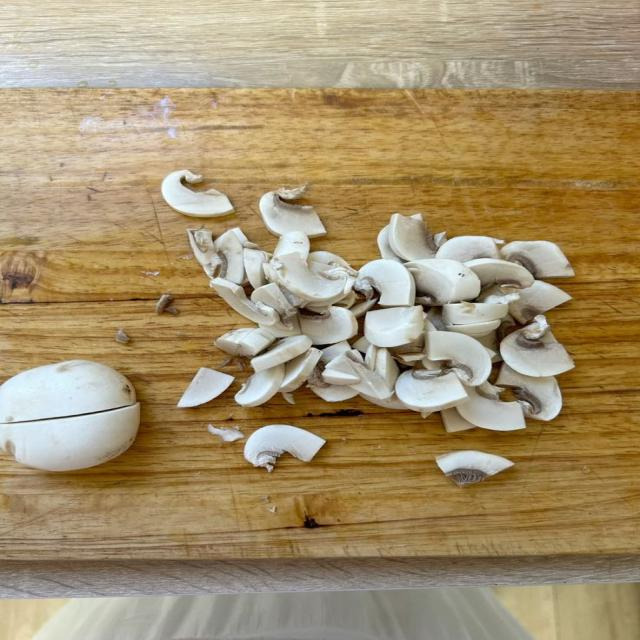champignon mushrooms: (0, 360, 139, 471), (500, 316, 574, 377), (496, 363, 562, 420), (272, 254, 346, 304), (245, 425, 325, 471), (427, 332, 491, 386), (260, 186, 326, 238), (161, 170, 233, 217), (406, 259, 480, 304), (326, 350, 393, 399), (211, 278, 279, 325), (395, 370, 471, 411), (456, 387, 526, 430), (436, 451, 513, 487), (501, 241, 574, 278), (357, 260, 415, 306), (509, 280, 571, 323), (364, 306, 424, 347), (251, 335, 312, 372), (388, 214, 437, 260), (300, 306, 358, 344), (178, 368, 233, 407), (235, 365, 285, 406), (466, 259, 533, 289), (251, 283, 297, 326), (280, 348, 321, 393), (436, 236, 504, 262), (214, 229, 246, 284), (443, 302, 509, 324), (307, 251, 356, 275), (372, 348, 399, 389), (243, 248, 270, 289), (307, 381, 358, 402), (187, 229, 215, 266), (274, 231, 309, 260), (377, 226, 403, 262), (445, 320, 500, 336), (440, 408, 475, 433), (360, 393, 408, 410), (321, 340, 351, 363), (322, 368, 360, 384), (350, 298, 377, 318), (352, 336, 370, 352)
